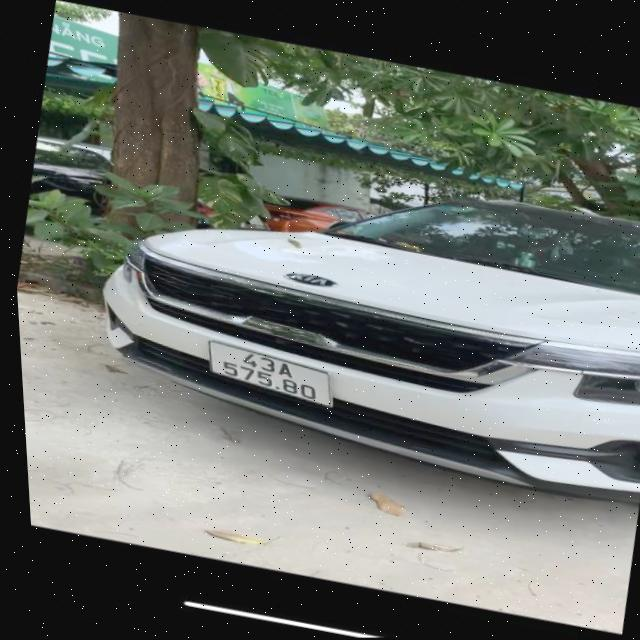car: (77, 113, 640, 518)
plate: (192, 336, 341, 411)
